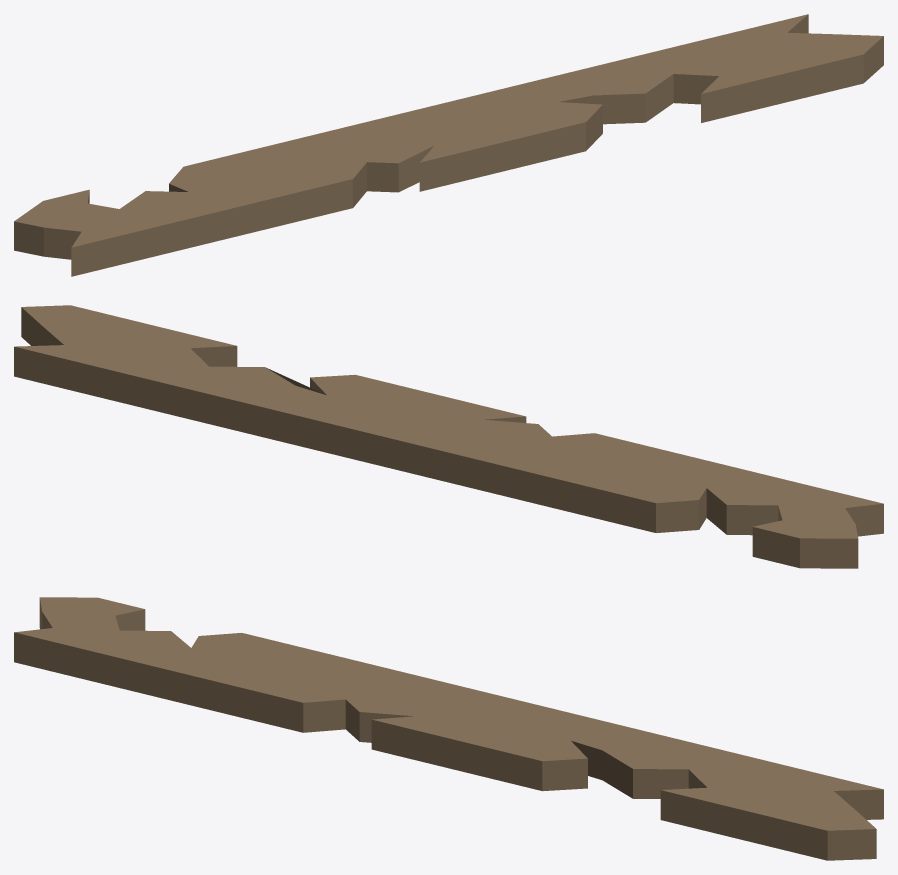
The model's file is Wood1.fbx.
The picture shows the model from 3 angles, top to bottom: view 1: azimuth 30°, elevation 25°; view 2: azimuth 150°, elevation 25°; view 3: azimuth 330°, elevation 25°; orthographic projection. The views are drawn at different scales.
Parts seen in each view (by area): view 1: Wood1; view 2: Wood1; view 3: Wood1.
Part boxes in pixels (x1,y1,x2,y2): Wood1: [14, 14, 883, 276]; Wood1: [14, 305, 883, 568]; Wood1: [14, 597, 883, 860].
Size of the model in its own units: 3.42 by 0.1133 by 0.3871.
